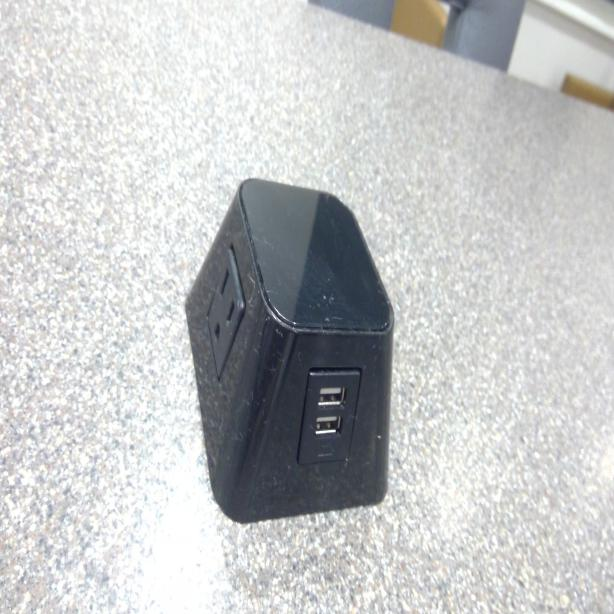typeb: (207, 264, 241, 349)
